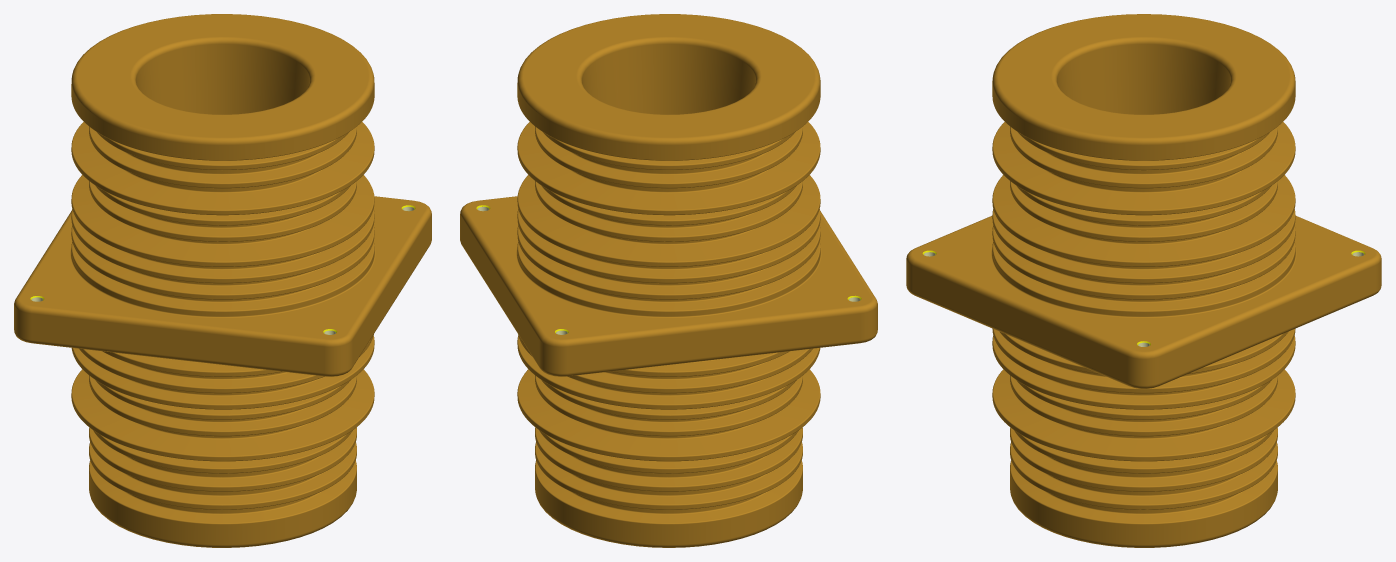
The model's file is 04.15_izolyator-prokhodnoy-ip-35-260x395.glb.
3 views of the same model, side by side, from view 1: azimuth 30°, elevation 25°; view 2: azimuth 150°, elevation 25°; view 3: azimuth 270°, elevation 25° (orthographic).
Visible parts, largest first — view 1: 04.15_izolyator-prokhodnoy-ip-35-260x395; view 2: 04.15_izolyator-prokhodnoy-ip-35-260x395; view 3: 04.15_izolyator-prokhodnoy-ip-35-260x395.
Boxes of the visible parts, box(x1,y1,x2,y2) form: 04.15_izolyator-prokhodnoy-ip-35-260x395: box(14, 14, 431, 547); 04.15_izolyator-prokhodnoy-ip-35-260x395: box(460, 14, 877, 547); 04.15_izolyator-prokhodnoy-ip-35-260x395: box(906, 14, 1381, 547).
Size of the model in its own units: 408 by 395 by 408.
